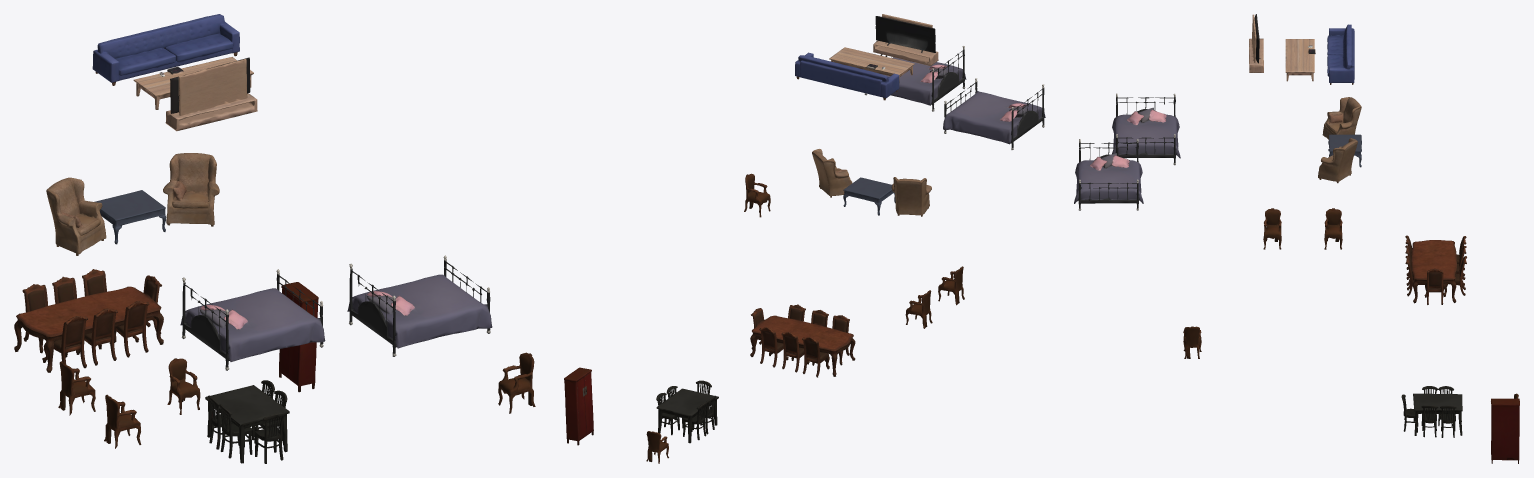
Rendered from yerlesim-sahip-1.glb.
3 views of the same model, side by side, from view 1: azimuth 30°, elevation 25°; view 2: azimuth 150°, elevation 25°; view 3: azimuth 270°, elevation 25° (orthographic). The views are drawn at different scales.
Visible parts, largest first — view 1: tripo_node_5701dafe-396e-4962-932f-677b87d2ff56.001, tripo_node_06f5f812-48e7-4e3b-8d92-672ff3ab96e0, tripo_node_116bb3dc-486e-4dc4-afd9-a3ce378d2541.002, tripo_node_4f484b9c-7bc6-4622-85dd-3f6f0d92af15, tripo_node_92c3003d-608a-4e19-a92f-b59608253f04; view 2: tripo_node_116bb3dc-486e-4dc4-afd9-a3ce378d2541.002, tripo_node_06f5f812-48e7-4e3b-8d92-672ff3ab96e0, tripo_node_5701dafe-396e-4962-932f-677b87d2ff56.001, tripo_node_4f484b9c-7bc6-4622-85dd-3f6f0d92af15, tripo_node_92c3003d-608a-4e19-a92f-b59608253f04; view 3: tripo_node_5701dafe-396e-4962-932f-677b87d2ff56.001, tripo_node_116bb3dc-486e-4dc4-afd9-a3ce378d2541.002, tripo_node_06f5f812-48e7-4e3b-8d92-672ff3ab96e0, tripo_node_4f484b9c-7bc6-4622-85dd-3f6f0d92af15, tripo_node_92c3003d-608a-4e19-a92f-b59608253f04.
Part boxes in pixels (x1,y1,x2,y2): tripo_node_5701dafe-396e-4962-932f-677b87d2ff56.001: (180,255,492,370); tripo_node_06f5f812-48e7-4e3b-8d92-672ff3ab96e0: (92,14,257,131); tripo_node_116bb3dc-486e-4dc4-afd9-a3ce378d2541.002: (58,282,535,463); tripo_node_4f484b9c-7bc6-4622-85dd-3f6f0d92af15: (14,269,163,372); tripo_node_92c3003d-608a-4e19-a92f-b59608253f04: (46,153,219,255); tripo_node_116bb3dc-486e-4dc4-afd9-a3ce378d2541.002: (564,173,964,463); tripo_node_06f5f812-48e7-4e3b-8d92-672ff3ab96e0: (795,14,938,100); tripo_node_5701dafe-396e-4962-932f-677b87d2ff56.001: (864,46,1045,149); tripo_node_4f484b9c-7bc6-4622-85dd-3f6f0d92af15: (750,304,855,377); tripo_node_92c3003d-608a-4e19-a92f-b59608253f04: (812,149,931,216); tripo_node_5701dafe-396e-4962-932f-677b87d2ff56.001: (1074,93,1180,210); tripo_node_116bb3dc-486e-4dc4-afd9-a3ce378d2541.002: (1183,208,1519,463); tripo_node_06f5f812-48e7-4e3b-8d92-672ff3ab96e0: (1249,14,1354,84); tripo_node_4f484b9c-7bc6-4622-85dd-3f6f0d92af15: (1405,235,1466,304); tripo_node_92c3003d-608a-4e19-a92f-b59608253f04: (1318,97,1361,183).
Size of the model in its own units: 8.05 by 10.56 by 12.31.
Materials: 5 (5 with a texture image).
